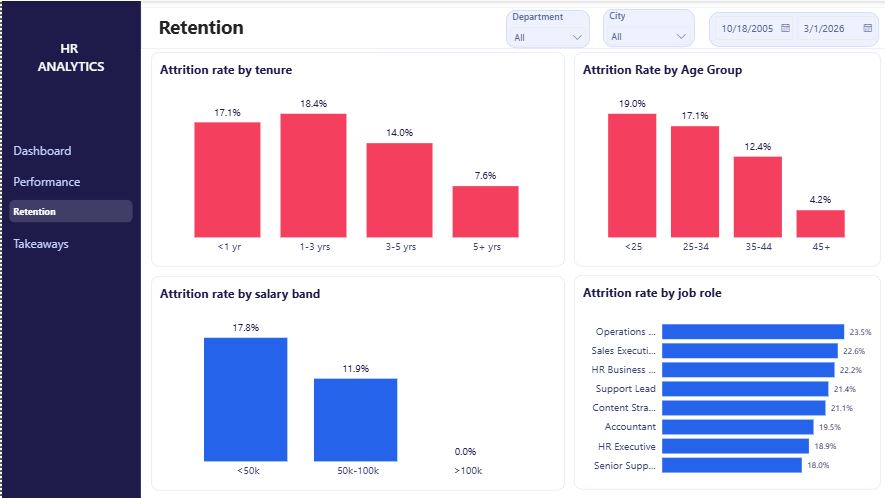

This screenshot's page, from the dashboard's own definition file:
{"tool":"powerbi","page":{"name":"Retention","canvas":[1280,720],"ordinal":2},"visuals":[{"type":"shape","title":"Sidebar","box":[0,0,200,720],"z":0},{"type":"pageNavigator","title":"PageNav","box":[5,190,190,180],"z":1000},{"type":"shape","title":"Header","box":[200,9,1080,60],"z":2000},{"type":"textbox","box":[220.5,13.7,314.4,54.7],"z":3000},{"type":"clusteredColumnChart","title":" Attrition rate by tenure","fields":{"Category":["Employee & Attrition Records.Tenure Band"],"Y":["Table.Attrition Rate"]},"box":[215,74,596,309],"z":4000},{"type":"clusteredColumnChart","fields":{"Category":["Employee & Attrition Records.Age Group"],"Y":["Table.Attrition Rate"]},"box":[823,74,442,309],"z":5000},{"type":"clusteredColumnChart","title":"Attrition rate by salary band","fields":{"Category":["Employee & Attrition Records.Salary Band"],"Y":["Table.Attrition Rate"]},"box":[214,395.5,596,309],"z":6000},{"type":"clusteredBarChart","title":"Attrition rate by job role ","fields":{"Category":["Employee & Attrition Records.job_role"],"Y":["Table.Attrition Rate"]},"box":[823,395,442,309],"z":7000},{"type":"textbox","box":[30,50,138,70],"z":8000},{"type":"slicer","fields":{"Values":["Employee & Attrition Records.city"]},"box":[865.4,11.5,131.6,54.7],"z":9000},{"type":"slicer","fields":{"Values":["Employee & Attrition Records.date_of_joining"]},"box":[1018.4,15.6,245,50],"z":10000},{"type":"slicer","fields":{"Values":["Employee & Attrition Records.department"]},"box":[725.8,13,121.3,54.7],"z":11000}]}

Visuals, with their boxes in screenshot pixels (x1, y1, x2, y2), scaled from the page's 1280x720 canvas onto the 885x498 screenshot:
"Sidebar" shape: (x1=0, y1=0, x2=138, y2=497)
"PageNav" pageNavigator: (x1=3, y1=131, x2=135, y2=256)
"Header" shape: (x1=138, y1=6, x2=884, y2=48)
textbox: (x1=152, y1=9, x2=370, y2=47)
" Attrition rate by tenure" clusteredColumnChart: (x1=149, y1=51, x2=561, y2=265)
clusteredColumnChart - Employee & Attrition Records.Age Group x Table.Attrition Rate: (x1=569, y1=51, x2=875, y2=265)
"Attrition rate by salary band" clusteredColumnChart: (x1=148, y1=274, x2=560, y2=487)
"Attrition rate by job role " clusteredBarChart: (x1=569, y1=273, x2=875, y2=487)
textbox: (x1=21, y1=35, x2=116, y2=83)
slicer - Employee & Attrition Records.city: (x1=598, y1=8, x2=689, y2=46)
slicer - Employee & Attrition Records.date_of_joining: (x1=704, y1=11, x2=874, y2=45)
slicer - Employee & Attrition Records.department: (x1=502, y1=9, x2=586, y2=47)
